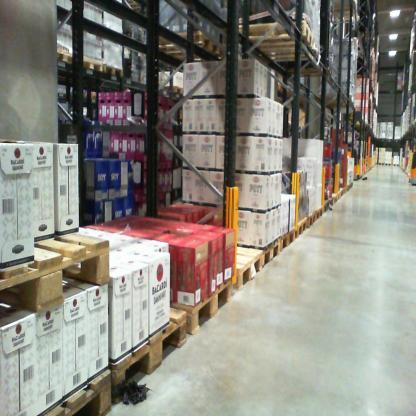pallets: (229, 184, 353, 290), (105, 300, 194, 400), (36, 369, 113, 415), (175, 281, 232, 335)
